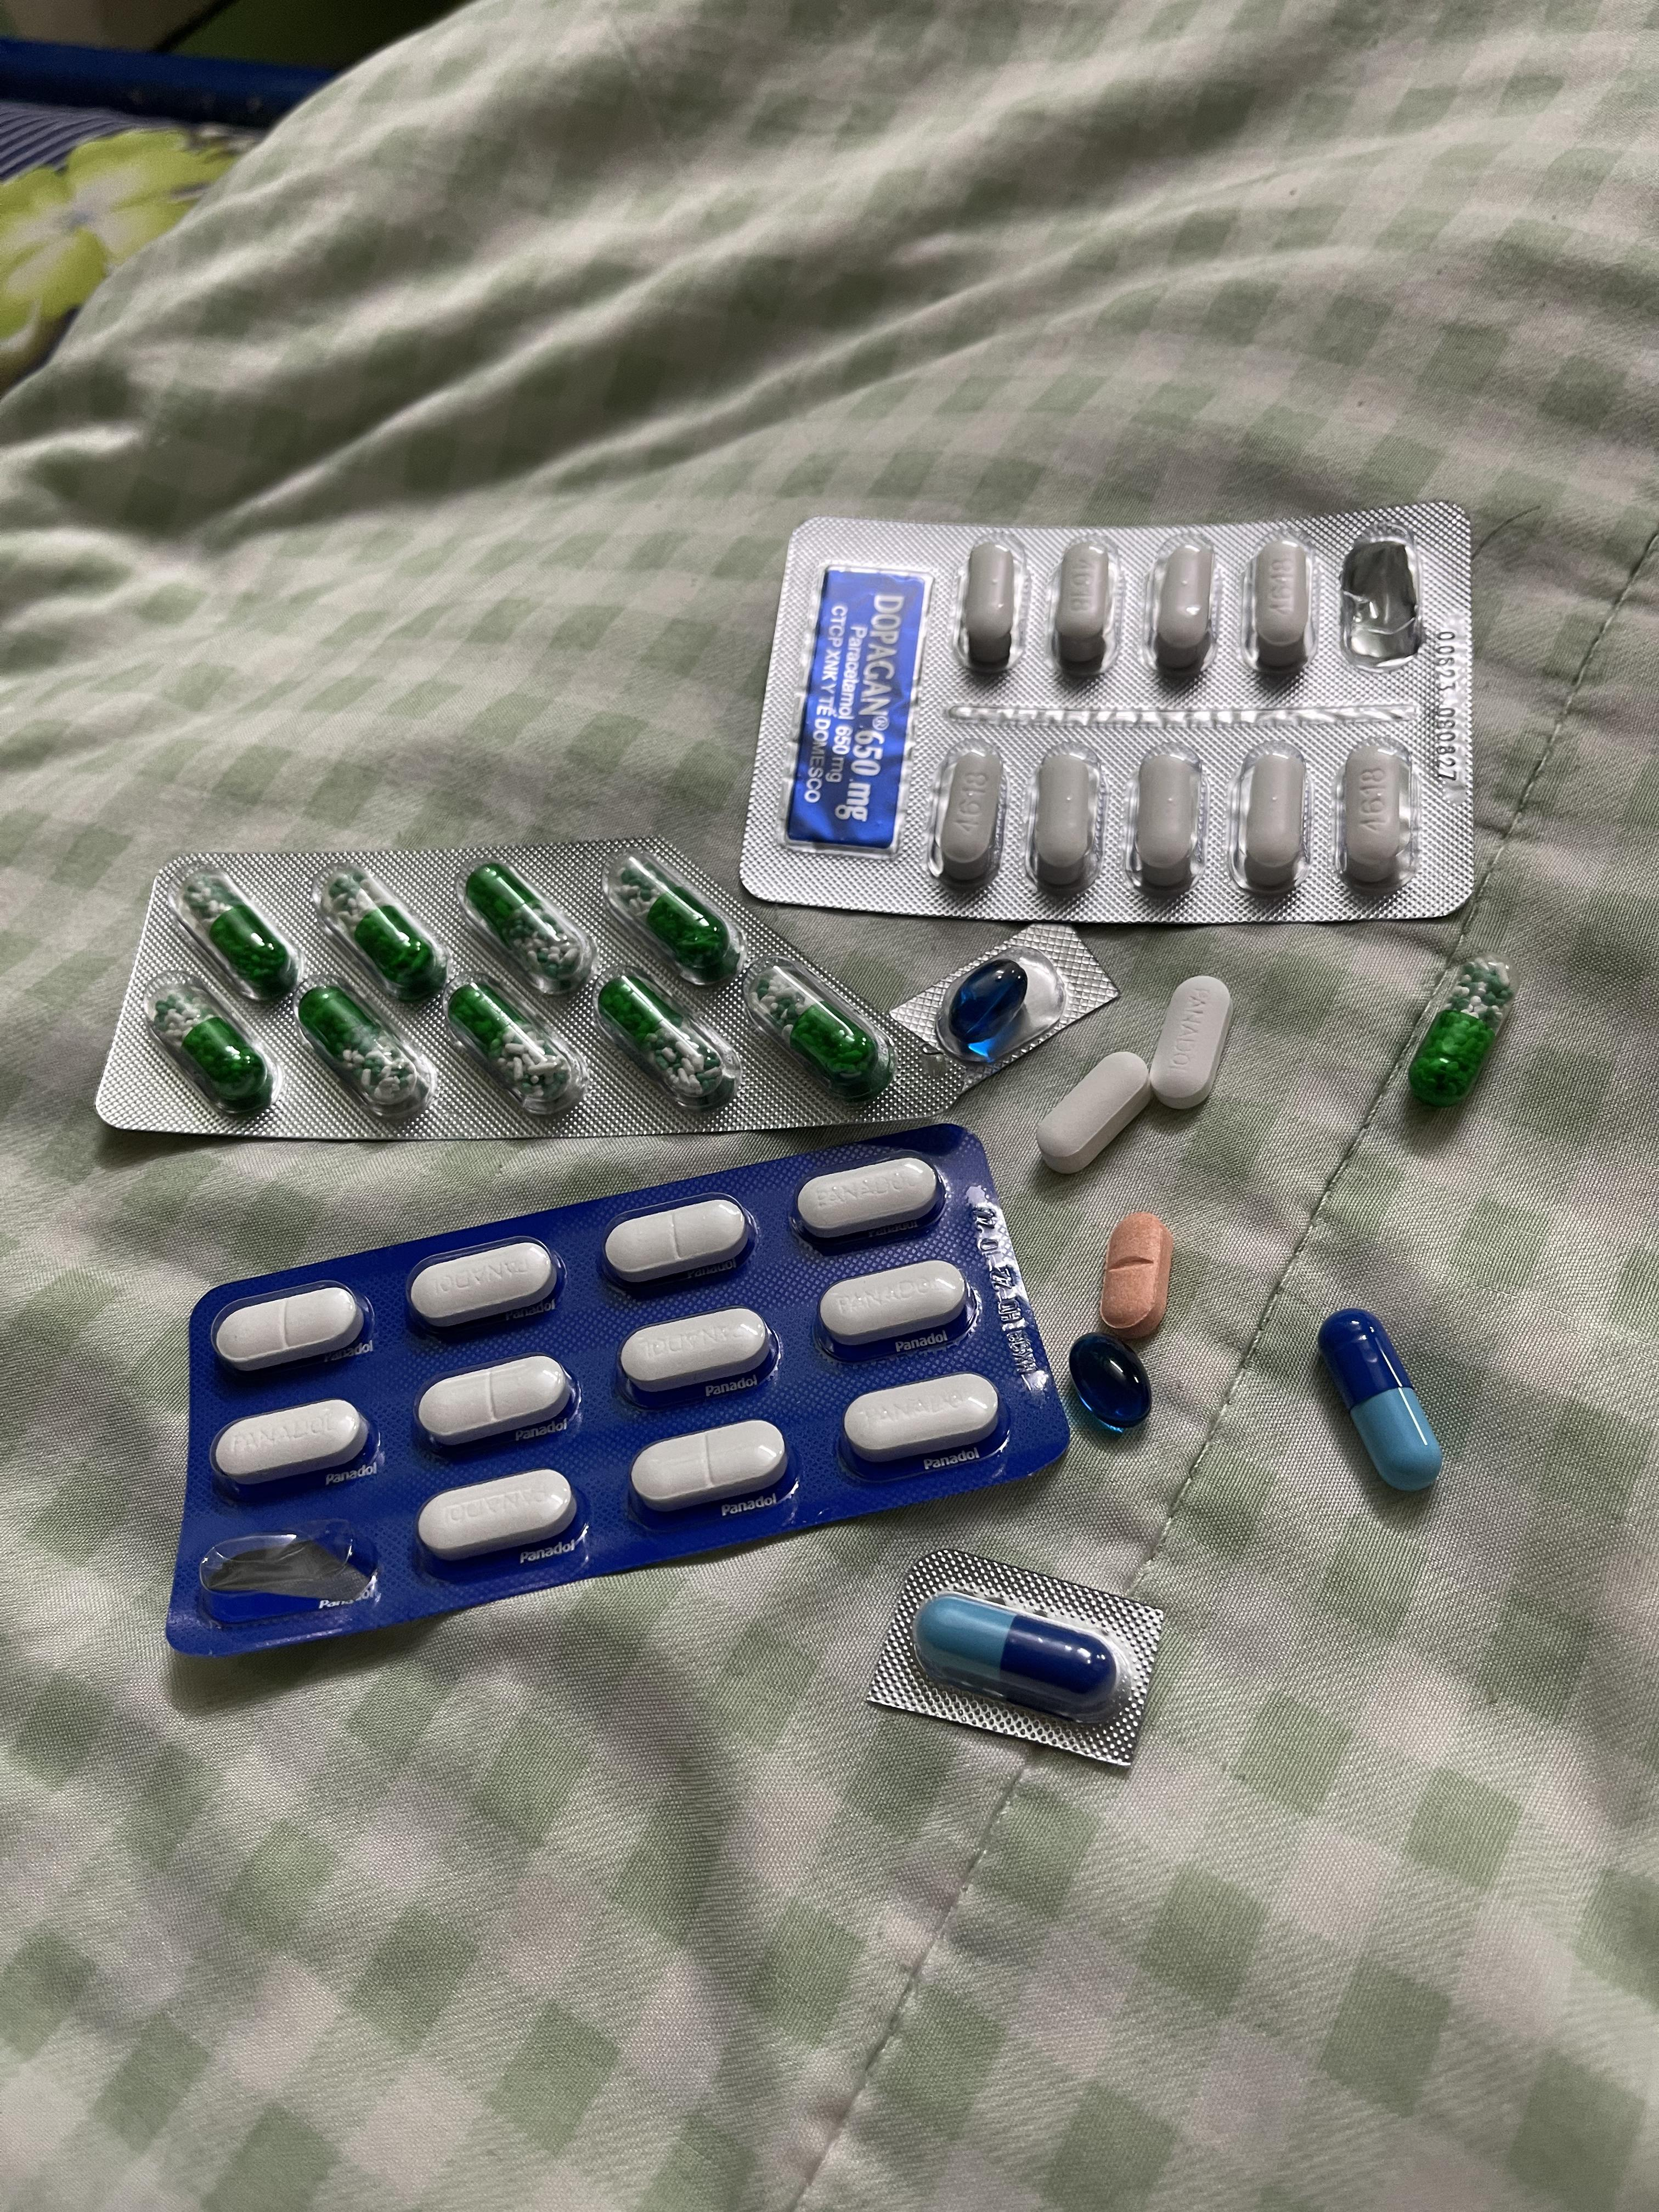Lincomyxin_500mg: (1065, 1324, 1154, 1432), (946, 960, 1032, 1054)
Loratadine_10mg: (1098, 1212, 1173, 1336)
Paracetamol_350mg: (214, 1399, 373, 1494), (418, 1355, 573, 1451), (633, 1423, 788, 1519), (418, 1472, 579, 1564), (408, 1237, 563, 1331), (214, 1282, 364, 1378), (845, 1374, 995, 1465), (823, 1259, 971, 1350), (605, 1197, 753, 1287), (622, 1312, 769, 1400), (796, 1157, 938, 1240), (1147, 975, 1234, 1109)
Paracetamol_500mg: (1032, 1052, 1150, 1174), (927, 742, 1004, 885), (1340, 744, 1412, 883), (1134, 747, 1201, 887), (1243, 749, 1307, 890), (1032, 751, 1096, 887), (1053, 538, 1117, 669), (1154, 542, 1215, 671), (1253, 536, 1312, 667), (962, 542, 1021, 669)
Paracetamol_650mg: (295, 972, 436, 1116), (317, 864, 453, 1008), (467, 857, 605, 993), (608, 846, 746, 979), (173, 867, 305, 1003), (1408, 961, 1520, 1108), (598, 974, 720, 1097), (450, 984, 573, 1106), (152, 988, 272, 1108), (763, 970, 875, 1089)
pill: (915, 1585, 1134, 1721), (1316, 1303, 1446, 1489)
